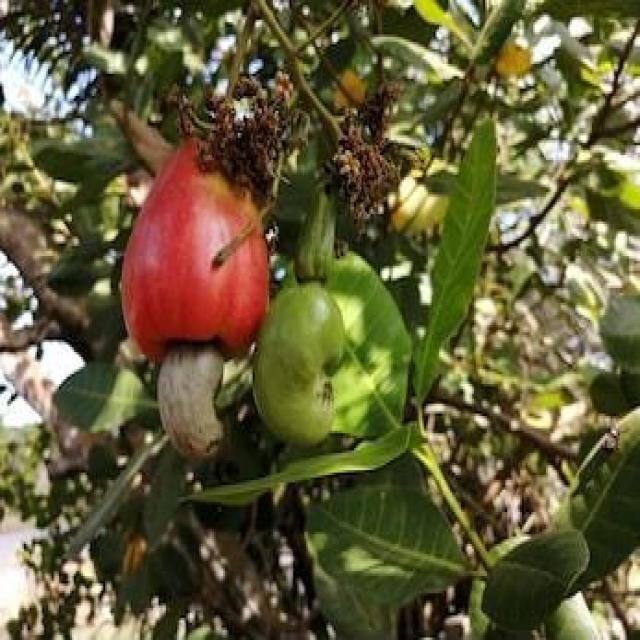cashew: (258, 261, 369, 457), (155, 340, 263, 467)
